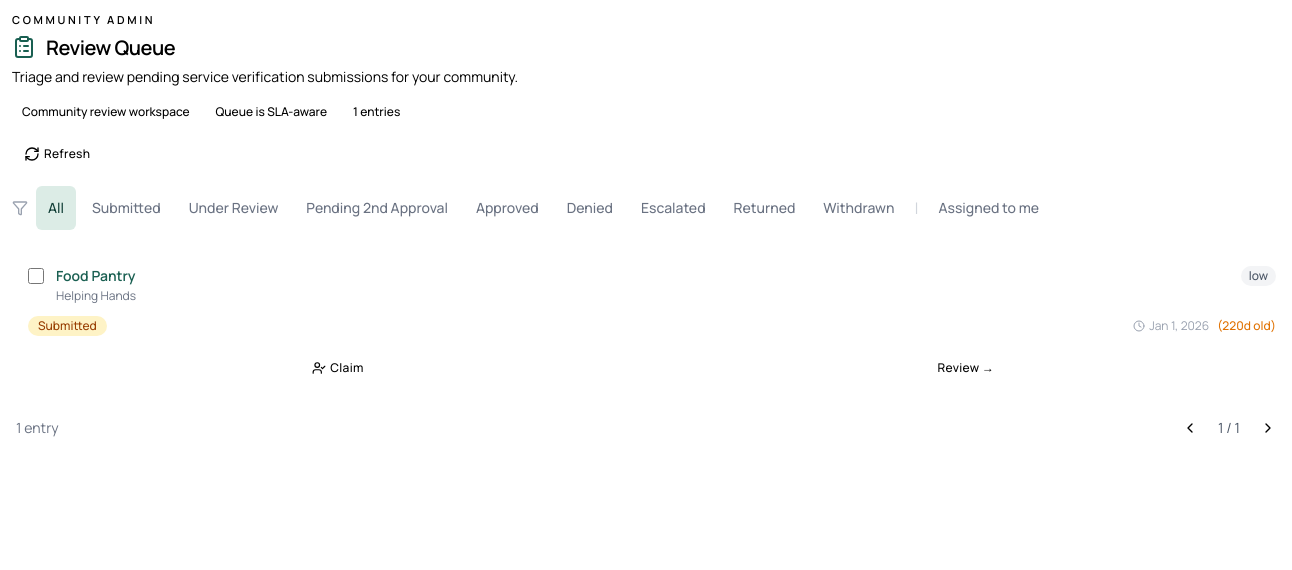
Test case: community admin queue page › surfaces bulk-action API errors and allows dismissing the alert
Click the checkbox named "Select Food Pantry". click: [36, 276]
box: [28,268,44,284]
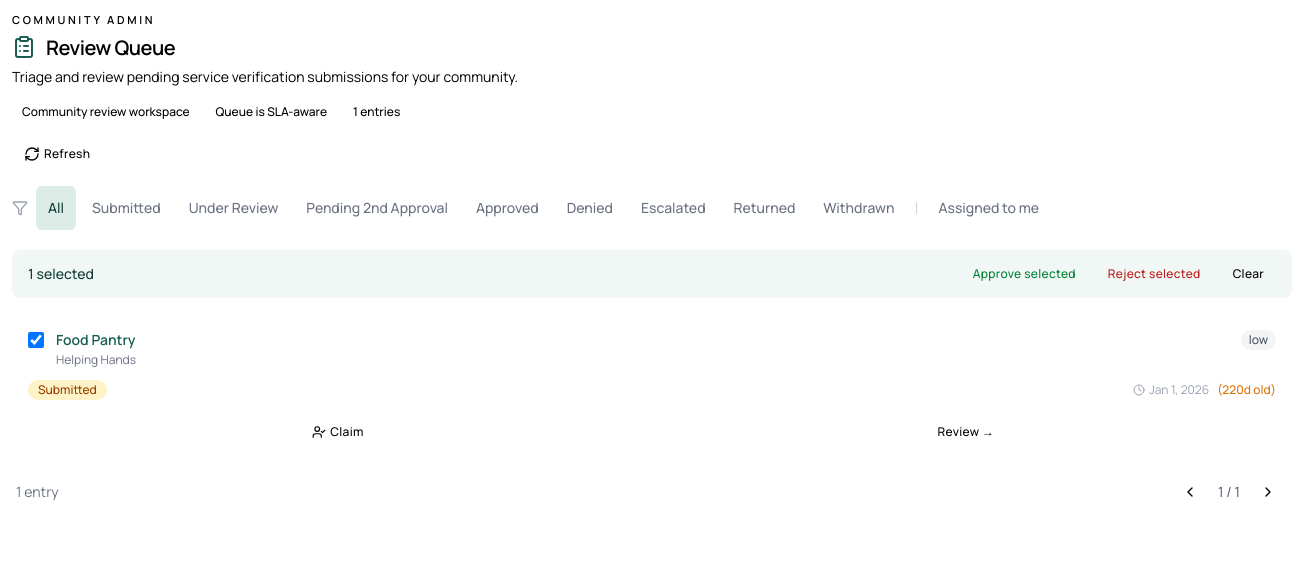
Click the button "Reject selected". click: [1154, 274]
box: [1096,258,1213,290]
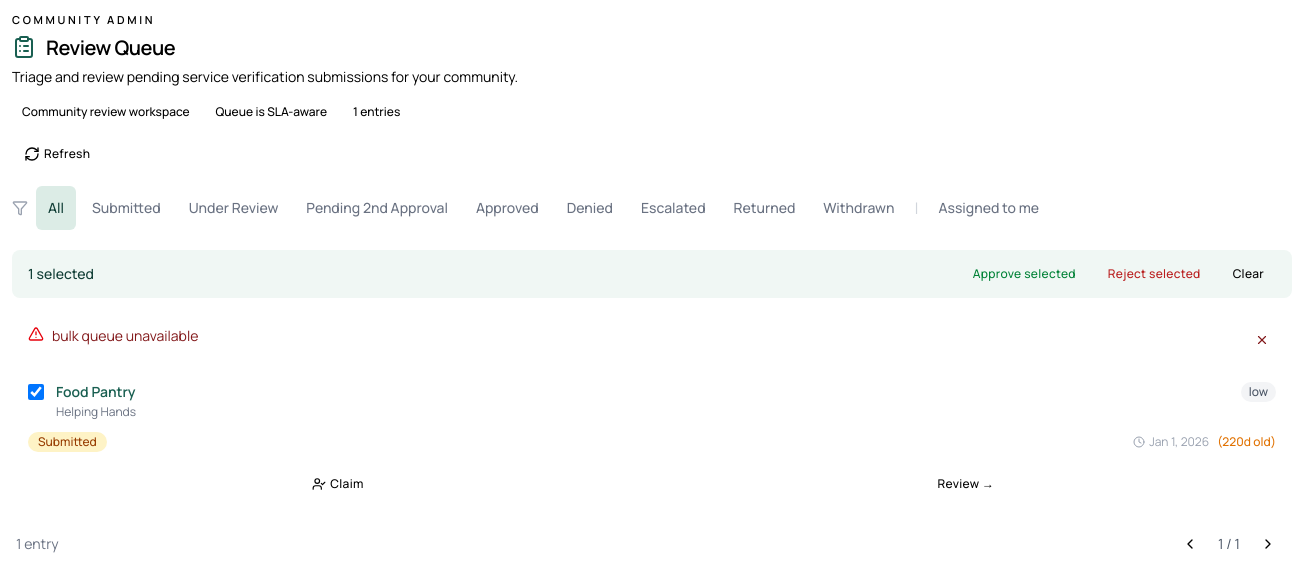
Expected: the message "bulk queue unavailable" is shown, [28,326,1276,354]
Expected: the text "bulk queue unavailable" is shown, [52,326,198,345]
Click the button named "Dismiss". click: [1262, 340]
box: [1248,326,1276,354]
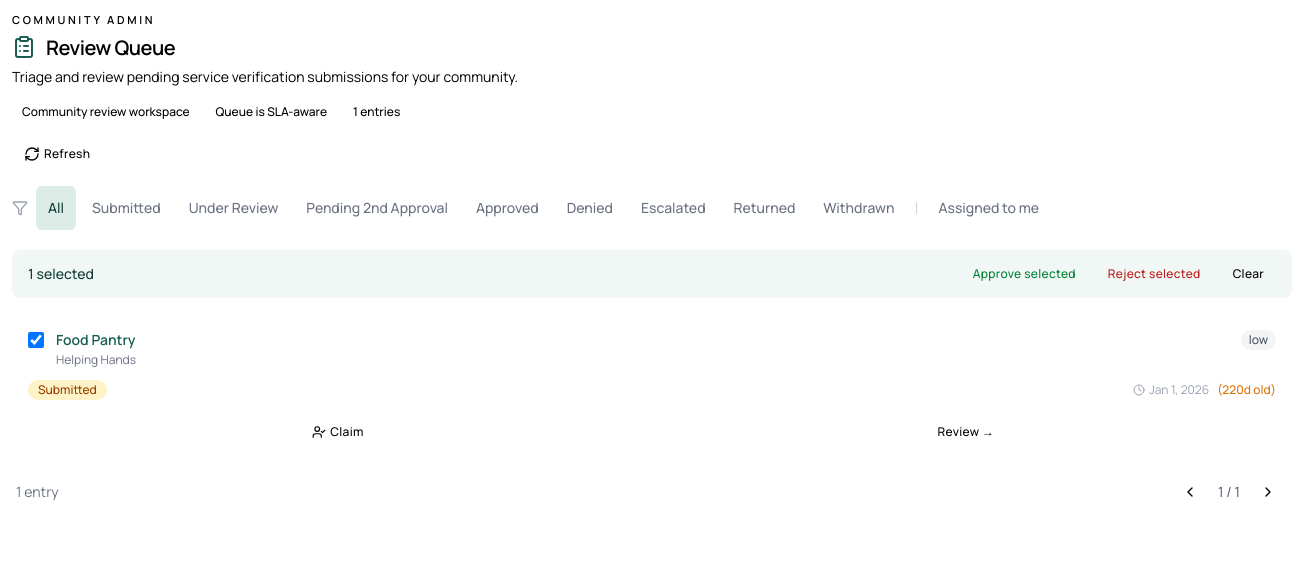
Expected: the text "bulk queue unavailable" is gone
